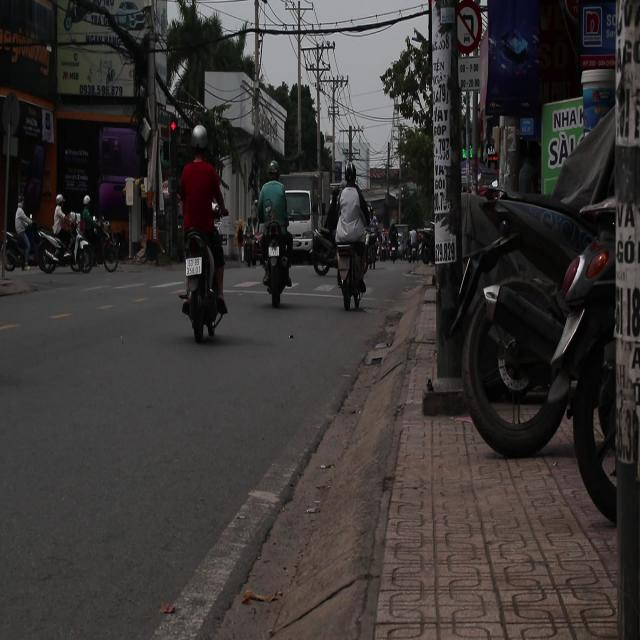motorbike: (172, 205, 228, 357), (332, 211, 378, 319), (256, 227, 296, 341), (77, 215, 128, 288), (41, 220, 94, 275), (0, 220, 51, 275), (310, 226, 338, 278), (387, 218, 403, 285)
truck: (282, 176, 321, 260)
